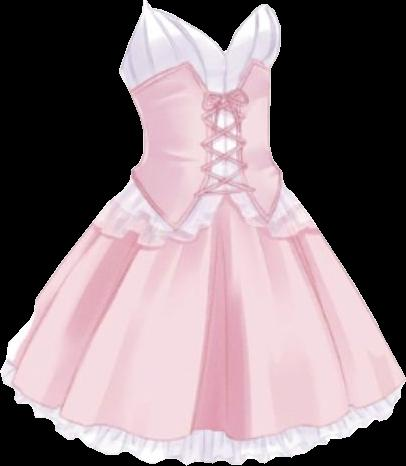Bodice: (119, 0, 285, 231)
Hemline: (0, 366, 405, 465), (5, 355, 405, 441)
Neckline: (143, 0, 268, 55), (129, 58, 269, 98)
Skirt: (1, 180, 404, 464)
Waistline: (129, 177, 289, 235)
